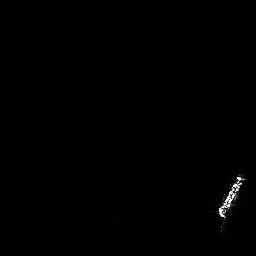ship: (217, 173, 249, 233)
